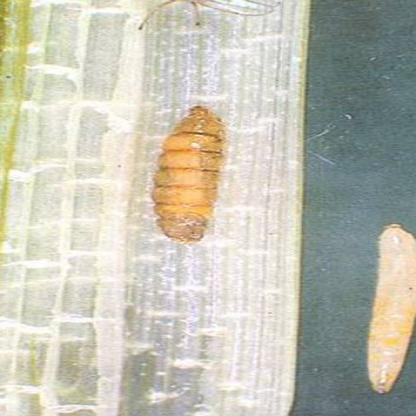whorl-maggot: (138, 96, 234, 250), (356, 222, 416, 402)
